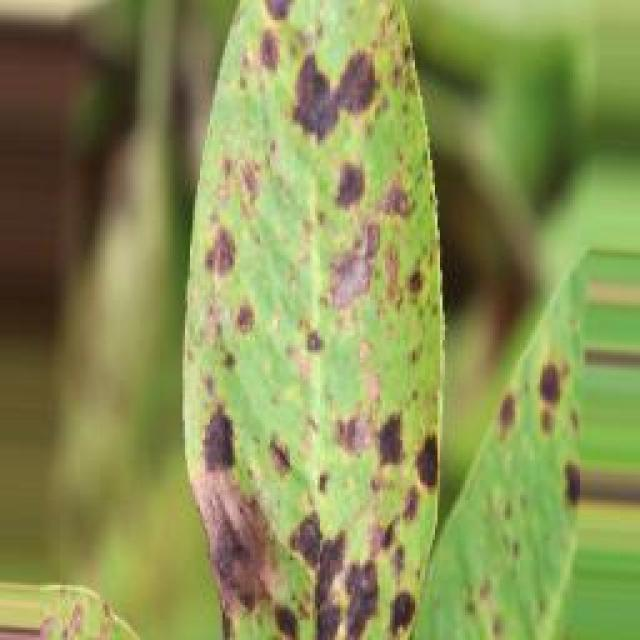Yellowish: (82, 0, 583, 639)
